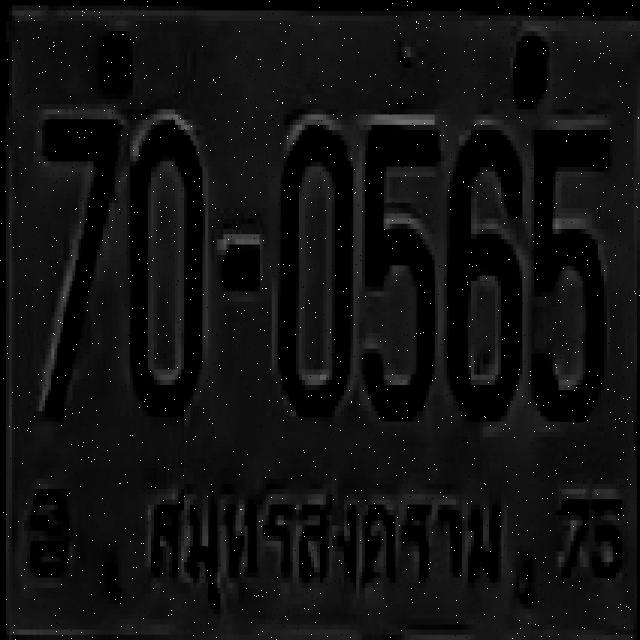0: (128, 115, 200, 411), (278, 120, 350, 412)
5: (530, 122, 608, 418), (361, 120, 433, 416)
6: (447, 125, 519, 416)
7: (42, 115, 118, 416), (42, 114, 118, 348)
SamutSongkhram: (140, 457, 510, 621)
